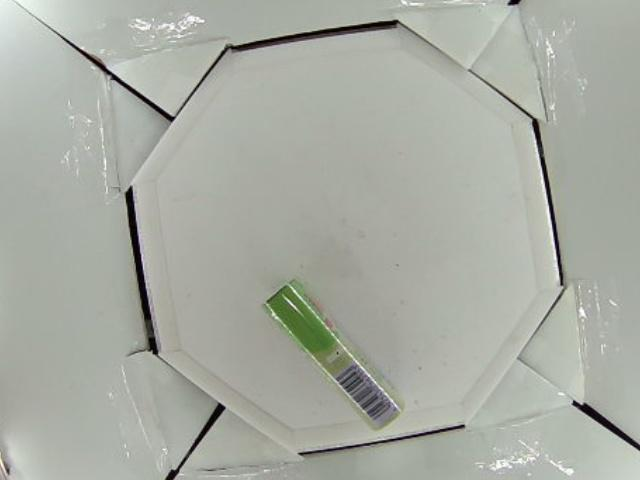Bottle: (260, 275, 411, 431)
